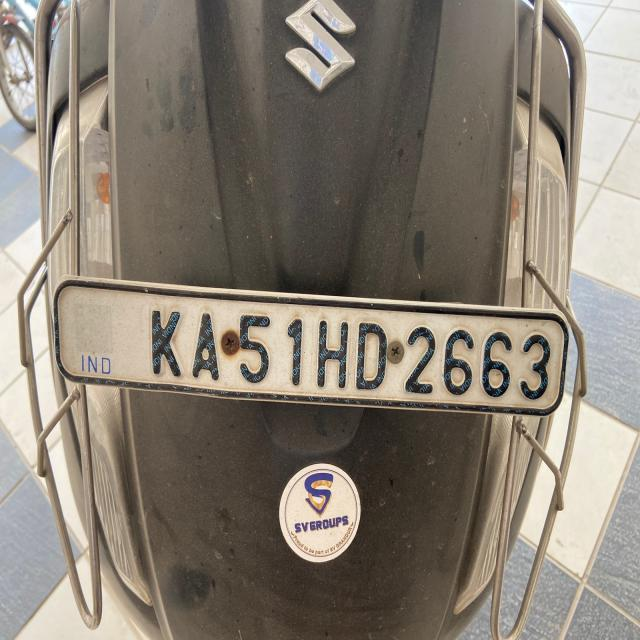1: (284, 311, 310, 389)
3: (518, 323, 558, 405)
5: (231, 303, 281, 384)
6: (472, 322, 520, 398), (442, 324, 475, 406)
A: (192, 310, 224, 390)
D: (353, 308, 389, 394)
H: (316, 314, 353, 401)
K: (145, 300, 186, 382)
